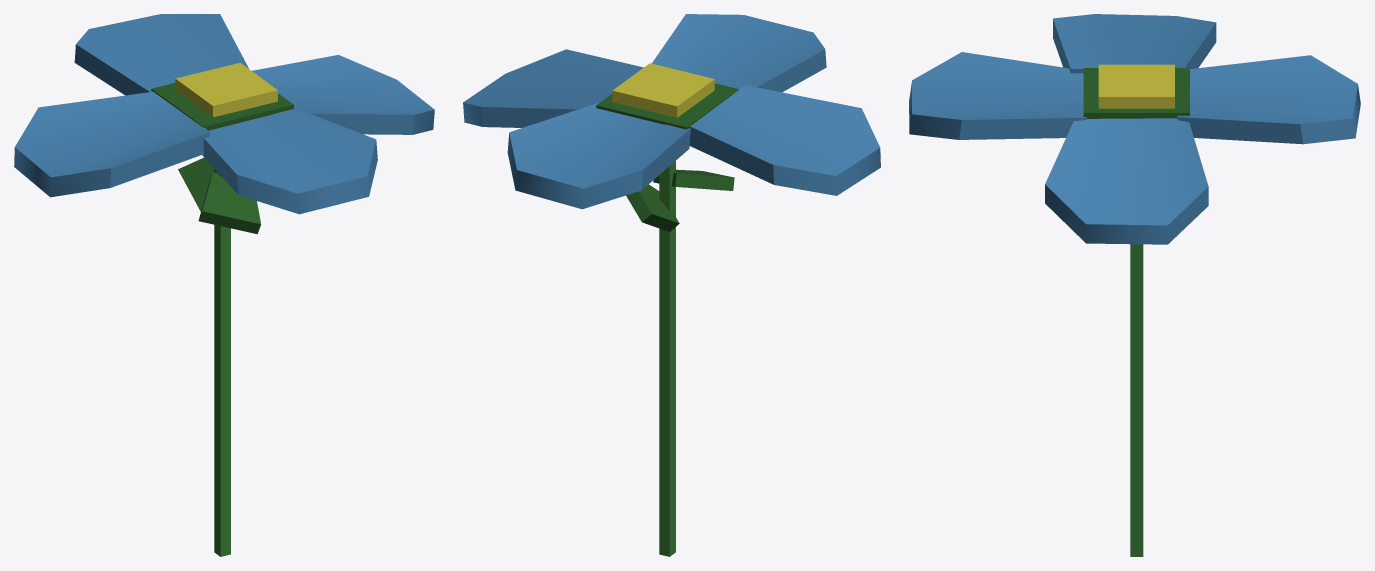
The model's file is Flower03.fbx.
3 renders of one model, left to right at view 1: azimuth 30°, elevation 25°; view 2: azimuth 150°, elevation 25°; view 3: azimuth 270°, elevation 25°, orthographic.
Parts seen in each view (by area): view 1: BlueFlower; view 2: BlueFlower; view 3: BlueFlower.
Boxes of the visible parts, x1,y1,x2,y2 form: BlueFlower: [14, 14, 434, 556]; BlueFlower: [463, 14, 880, 556]; BlueFlower: [909, 14, 1360, 556].
Bounding box in the file's own units: 0.1539 × 0.1799 × 0.1548.
